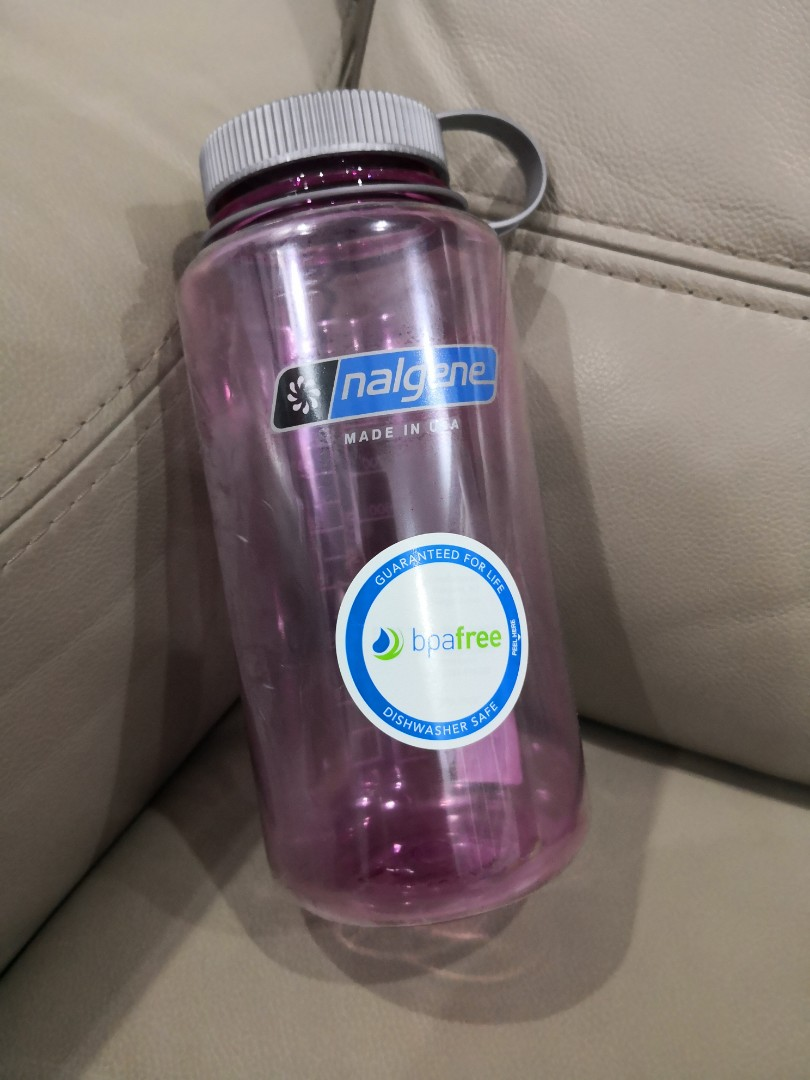bottle: (177, 89, 591, 927)
